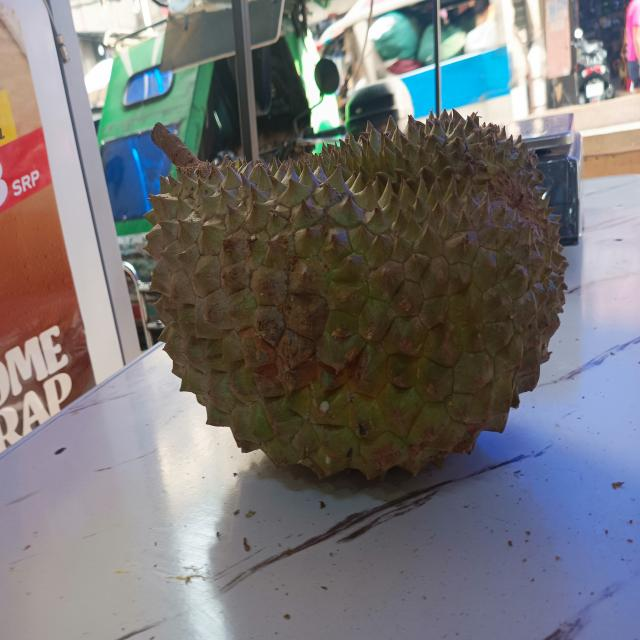mature: (137, 93, 574, 503)
